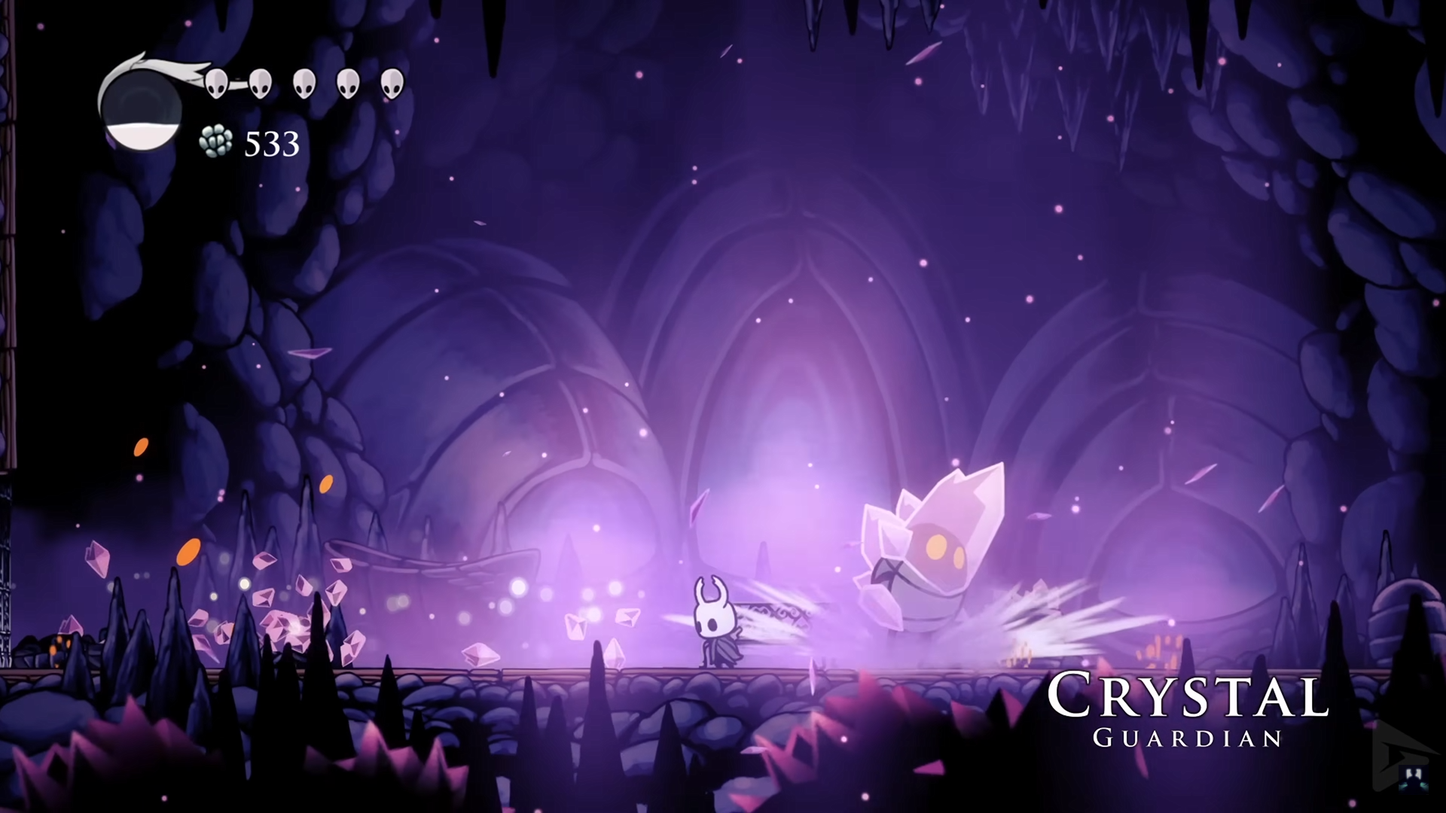HK: (686, 571, 749, 671)
